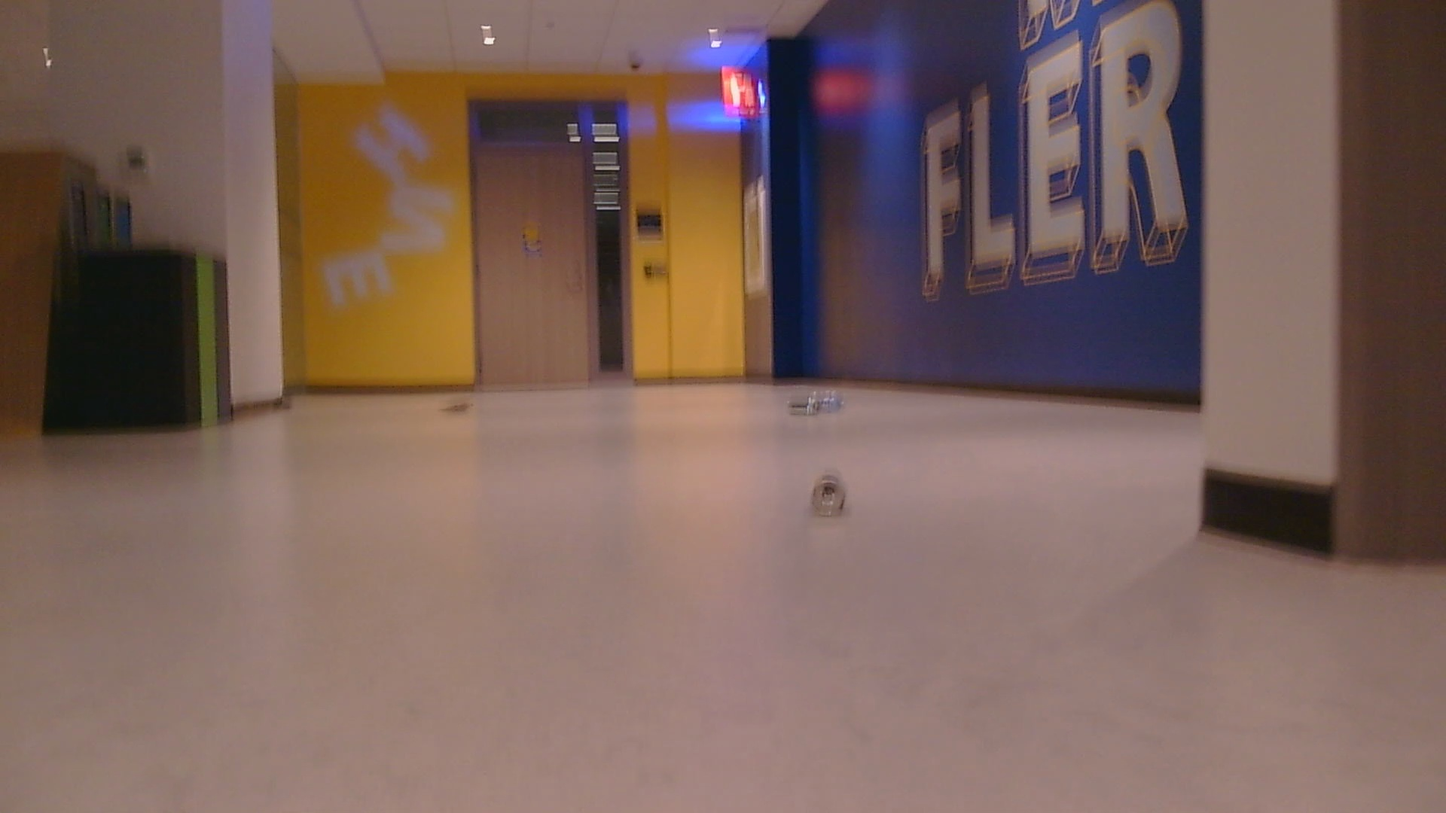can: (779, 378, 856, 437), (809, 467, 853, 519), (438, 394, 480, 416)
